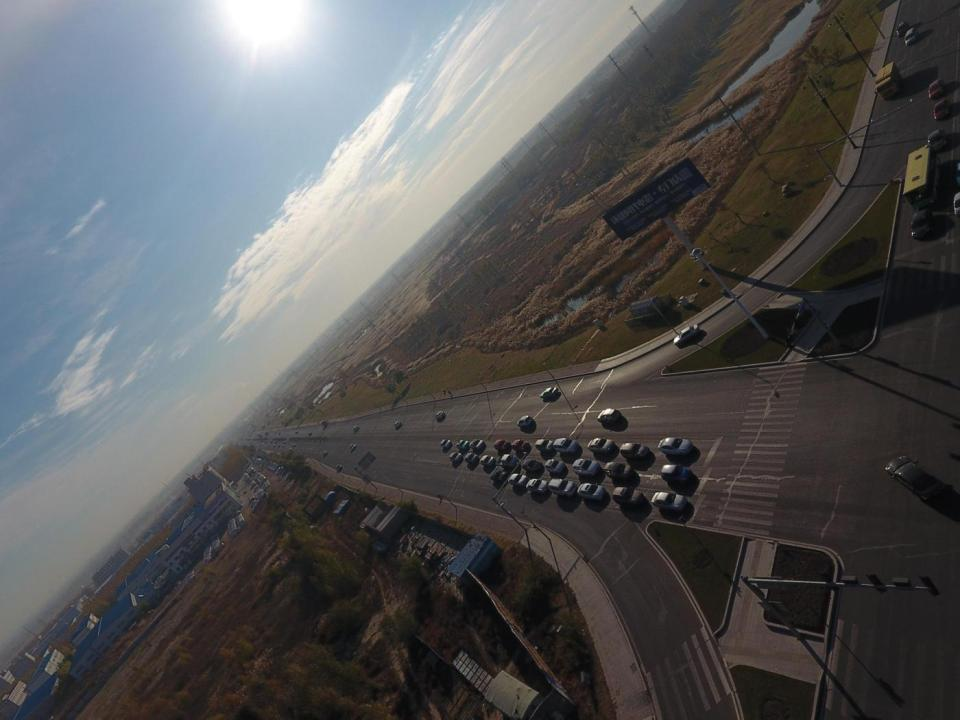bus: (903, 145, 942, 211), (319, 420, 328, 428)
car: (884, 452, 949, 500), (651, 491, 688, 513), (911, 209, 935, 240), (658, 437, 695, 456), (674, 323, 702, 347), (661, 464, 693, 484), (612, 487, 644, 507), (604, 462, 635, 481), (578, 483, 608, 502), (548, 478, 578, 497), (620, 442, 651, 460), (927, 128, 948, 154), (572, 458, 600, 477), (588, 437, 615, 454), (553, 437, 579, 454), (597, 408, 622, 424), (928, 78, 946, 99), (526, 479, 549, 495), (544, 459, 566, 474), (508, 473, 530, 488), (935, 99, 949, 122), (536, 439, 556, 453), (905, 26, 918, 46), (522, 460, 542, 473), (896, 21, 910, 39), (517, 415, 534, 428), (494, 439, 511, 452), (469, 438, 486, 451), (490, 470, 508, 482), (512, 439, 530, 451), (540, 388, 559, 399), (464, 453, 479, 465), (449, 452, 464, 463), (480, 456, 496, 466), (954, 190, 960, 216), (456, 440, 471, 450), (439, 439, 452, 450), (285, 470, 293, 481), (435, 411, 445, 419), (280, 469, 288, 478), (394, 421, 402, 429), (275, 466, 282, 475), (278, 468, 284, 477), (349, 444, 357, 450), (335, 464, 342, 470), (253, 485, 259, 492), (353, 425, 359, 431), (322, 451, 327, 456), (308, 432, 312, 436), (292, 443, 296, 447), (295, 430, 298, 434), (243, 490, 246, 494), (281, 445, 285, 448), (277, 444, 280, 448), (283, 441, 286, 444), (274, 430, 277, 433), (274, 440, 276, 444), (289, 448, 291, 451), (278, 432, 280, 435), (267, 443, 269, 446), (274, 444, 276, 446)
truck: (874, 61, 903, 101), (495, 454, 520, 467), (263, 432, 269, 436), (258, 434, 263, 438)
